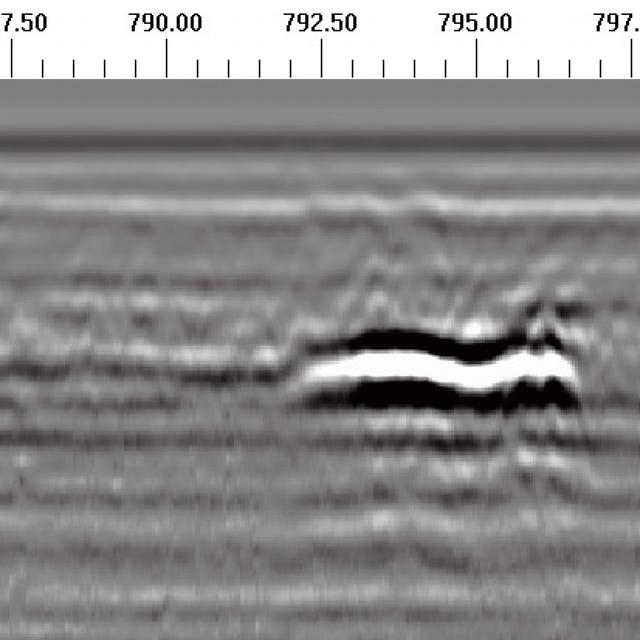loose: (274, 252, 596, 479)
